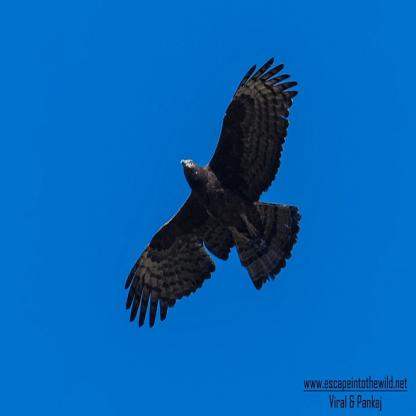Burung: (122, 55, 306, 328)
